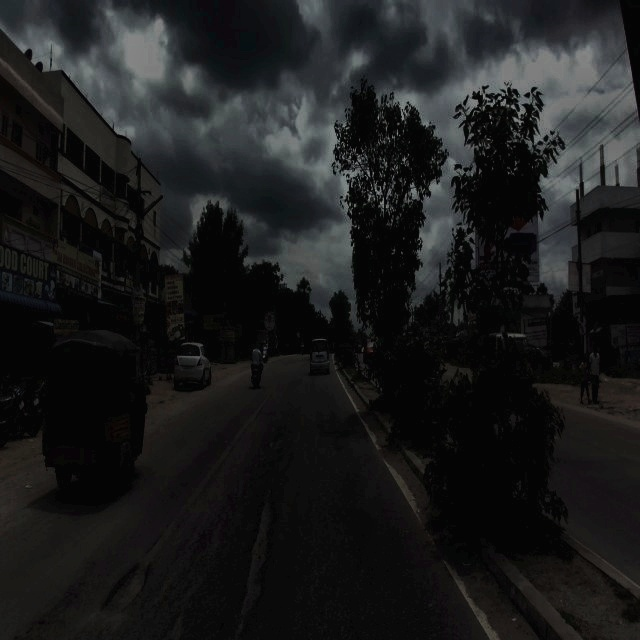Pothole: (246, 457, 302, 640), (90, 551, 196, 640)
